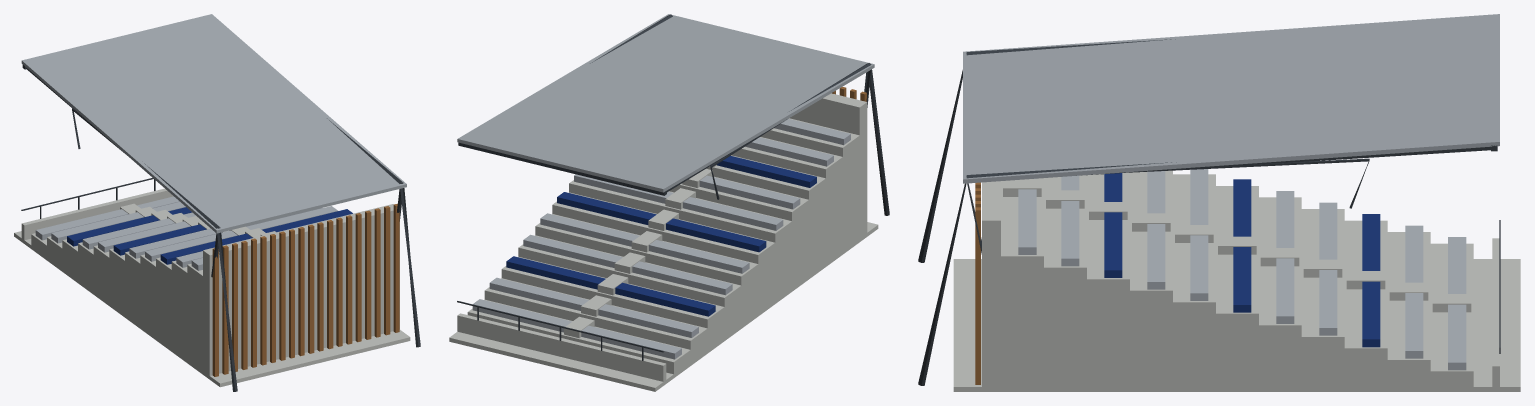
The model's file is grada-spielberg.glb.
3 renders of one model, left to right at view 1: azimuth 30°, elevation 25°; view 2: azimuth 150°, elevation 25°; view 3: azimuth 270°, elevation 25°, orthographic. The views are drawn at different scales.
Parts seen in each view (by area): view 1: grada-spielberg; view 2: grada-spielberg; view 3: grada-spielberg.
Boxes of the visible parts, x1,y1,x2,y2 form: grada-spielberg: (14,14,420,391); grada-spielberg: (449,14,889,391); grada-spielberg: (918,14,1520,391).
Size of the model in its own units: 16 by 14.6 by 31.87.
